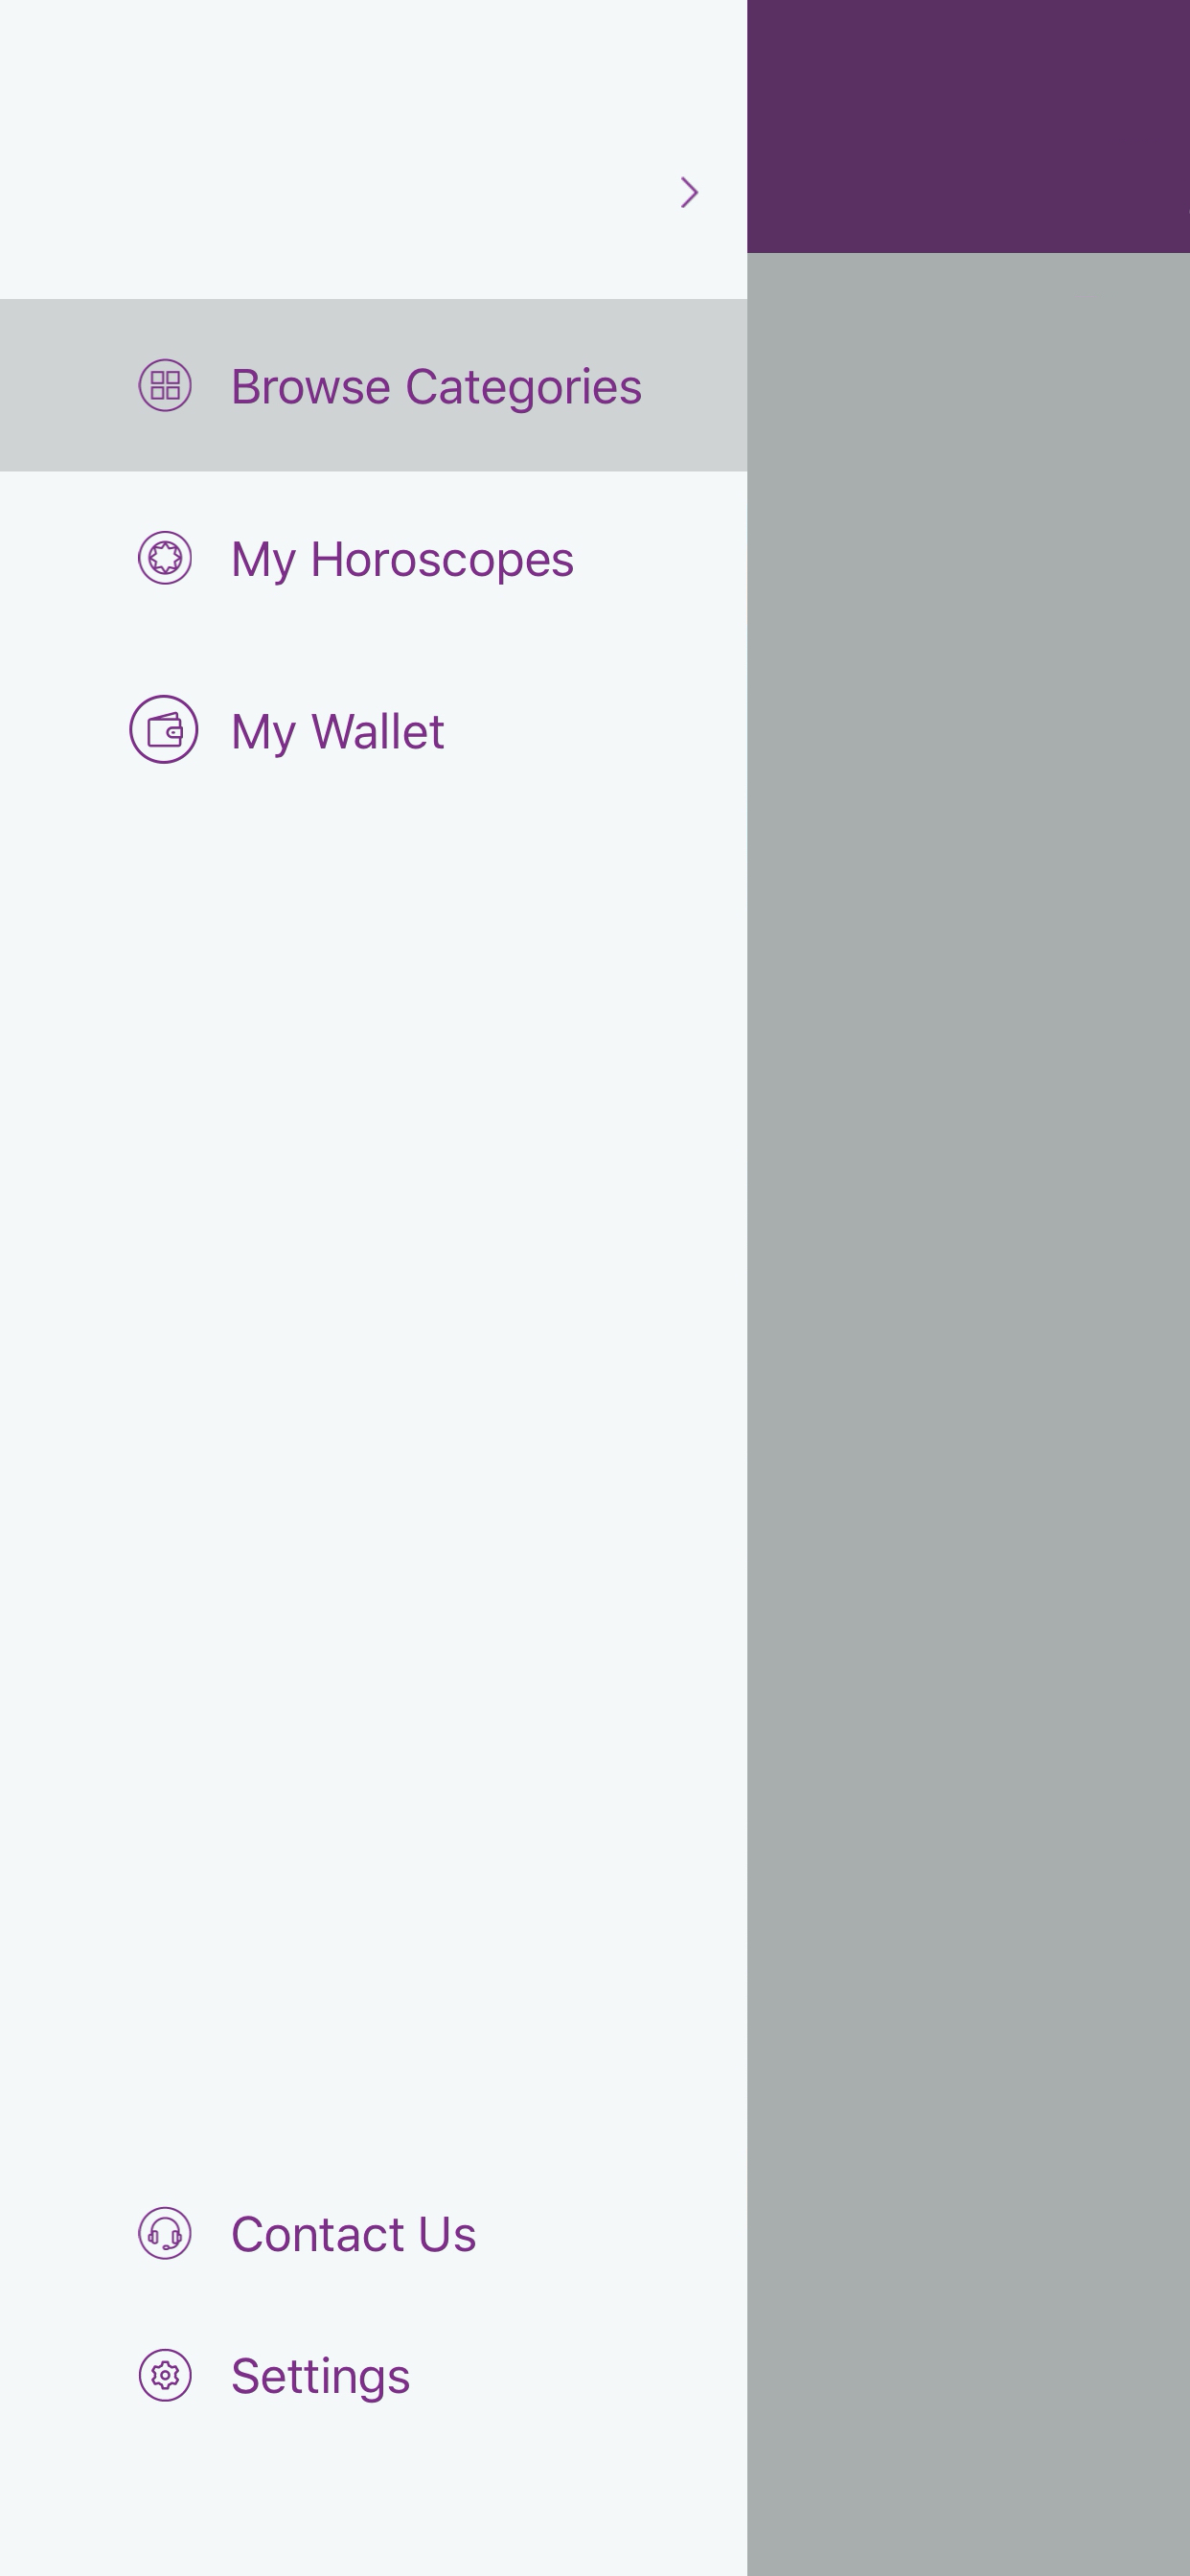Drawer: (2, 2, 748, 2576)
Icon: (130, 695, 199, 766), (138, 531, 192, 585), (138, 358, 192, 412), (138, 2206, 192, 2261), (140, 2348, 192, 2402), (680, 176, 699, 209)
Text: (233, 366, 641, 414), (233, 542, 574, 585), (233, 711, 444, 757), (233, 2215, 475, 2252), (233, 2356, 409, 2402)
